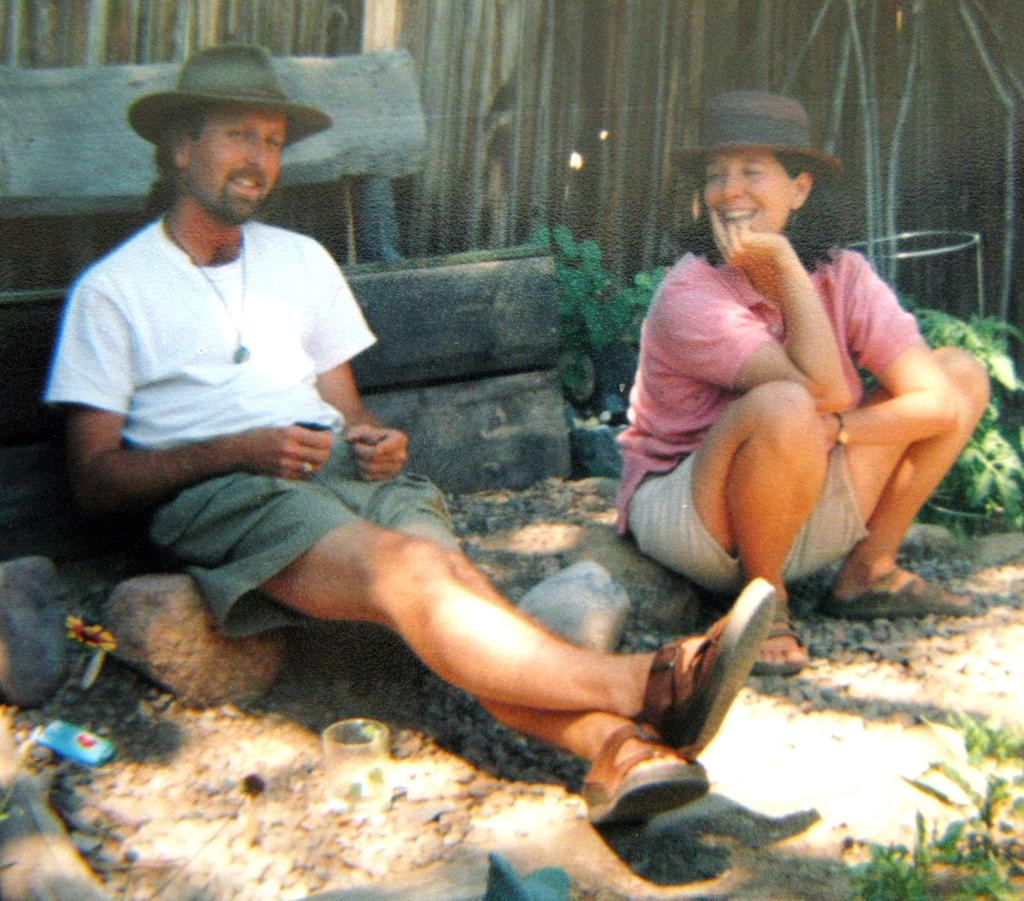Hat: (125, 48, 331, 150), (670, 91, 846, 184)
